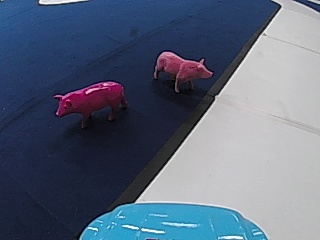pig: (50, 78, 128, 128), (151, 49, 214, 92)
